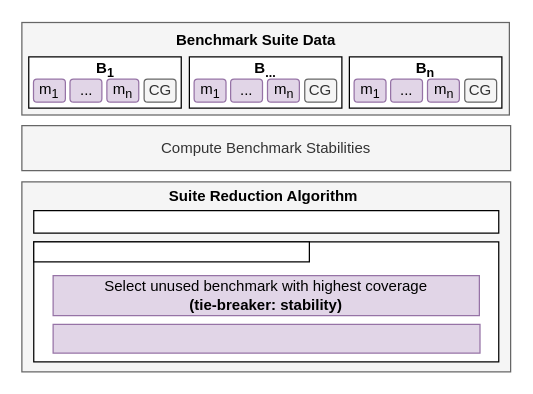
Some shapes in this 533 by 394 pixel diagram are drawn without their labels. The shapes that lost their labels are listed below. From the top down, each one's box as (x1, y1, x2, y2) in pixels, then its label:
(32, 209, 499, 233): Remove highly unstable benchmarks
(32, 241, 309, 262): While : full graph has remaining nodes
(52, 323, 480, 353): Remove benchmark from full graph
